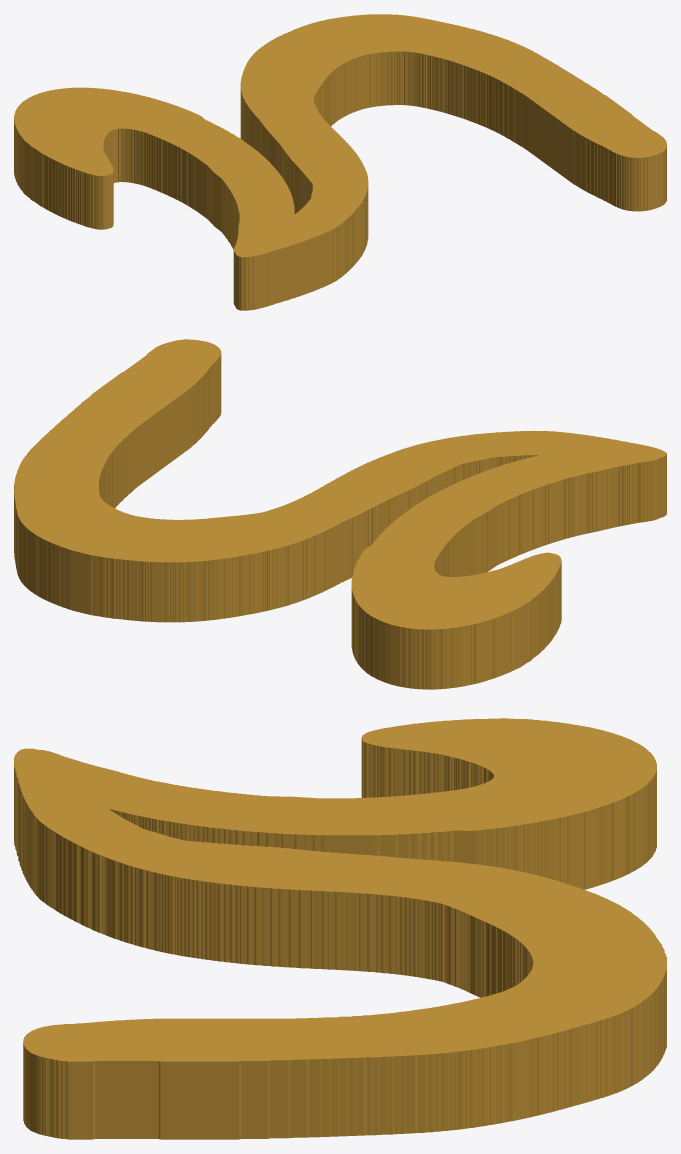
The picture shows the model from 3 angles, top to bottom: view 1: azimuth 30°, elevation 25°; view 2: azimuth 150°, elevation 25°; view 3: azimuth 270°, elevation 25°; orthographic projection. The views are drawn at different scales.
Parts seen in each view (by area): view 1: Curve.003; view 2: Curve.003; view 3: Curve.003.
Boxes of the visible parts, x1,y1,x2,y2 form: Curve.003: (14, 14, 666, 310); Curve.003: (14, 339, 666, 689); Curve.003: (14, 718, 666, 1139).
Size of the model in its own units: 93.46 by 9.9 by 75.15.
